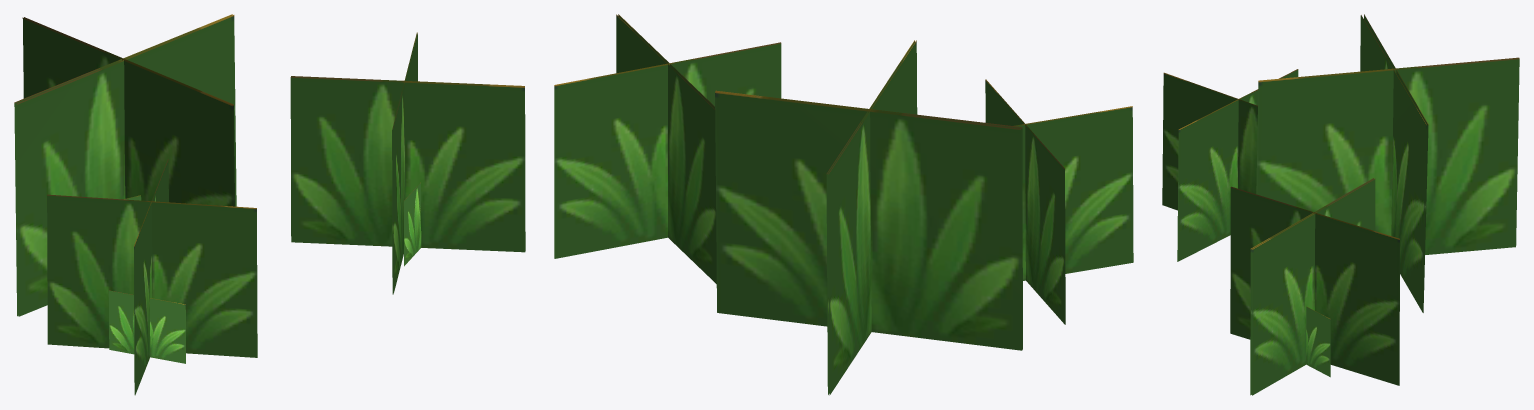
File: 0083_HT_ZheCheng_Grass01.glb
3 views of the same model, side by side, from view 1: azimuth 30°, elevation 25°; view 2: azimuth 150°, elevation 25°; view 3: azimuth 270°, elevation 25° (orthographic). The views are drawn at different scales.
Size of the model in its own units: 2.2 by 1.01 by 1.7.
Materials: 1 (1 with a texture image).
